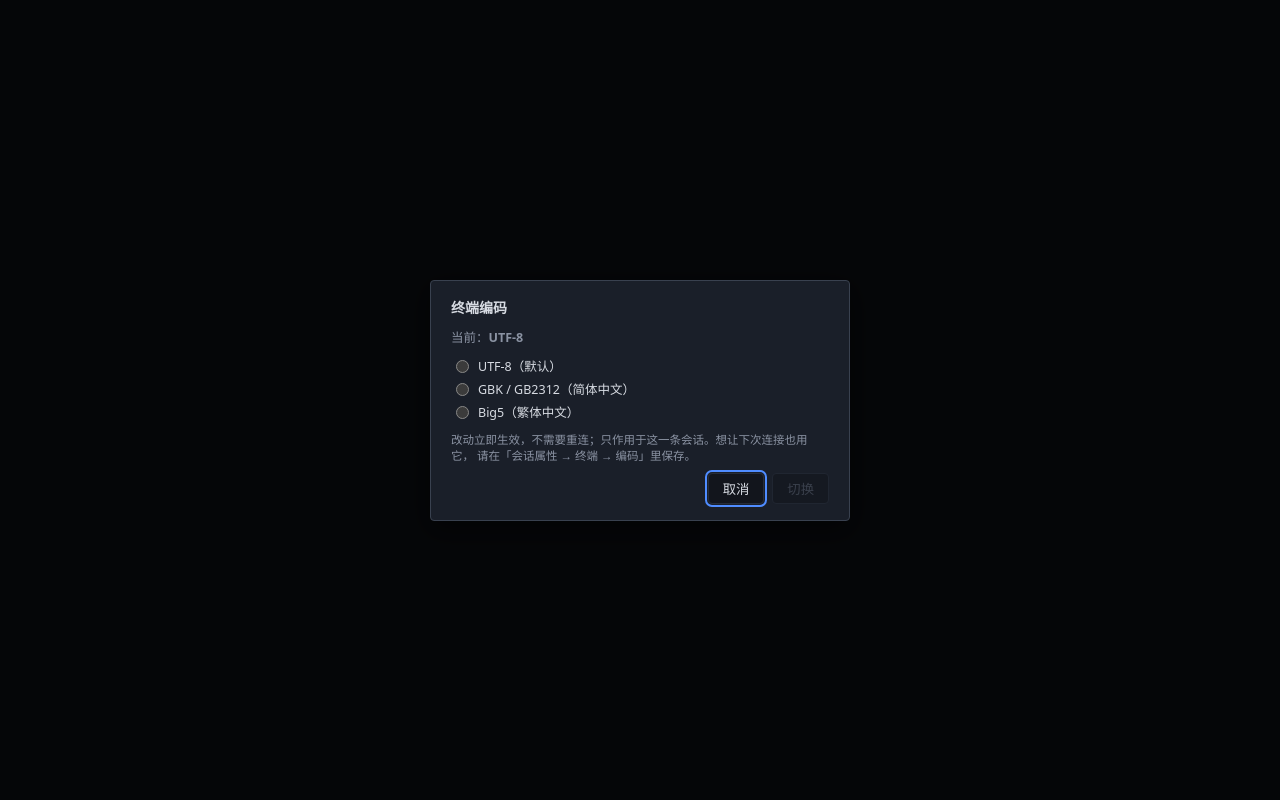
Scenario: EncodingDialog › 切换失败留在框里说清楚——关掉之后用户只会看到编码没变而不知道为什么
Step 1. Click the radio button with test id "encoding-opt-gbk" → point(462, 390), box [456, 383, 469, 396]
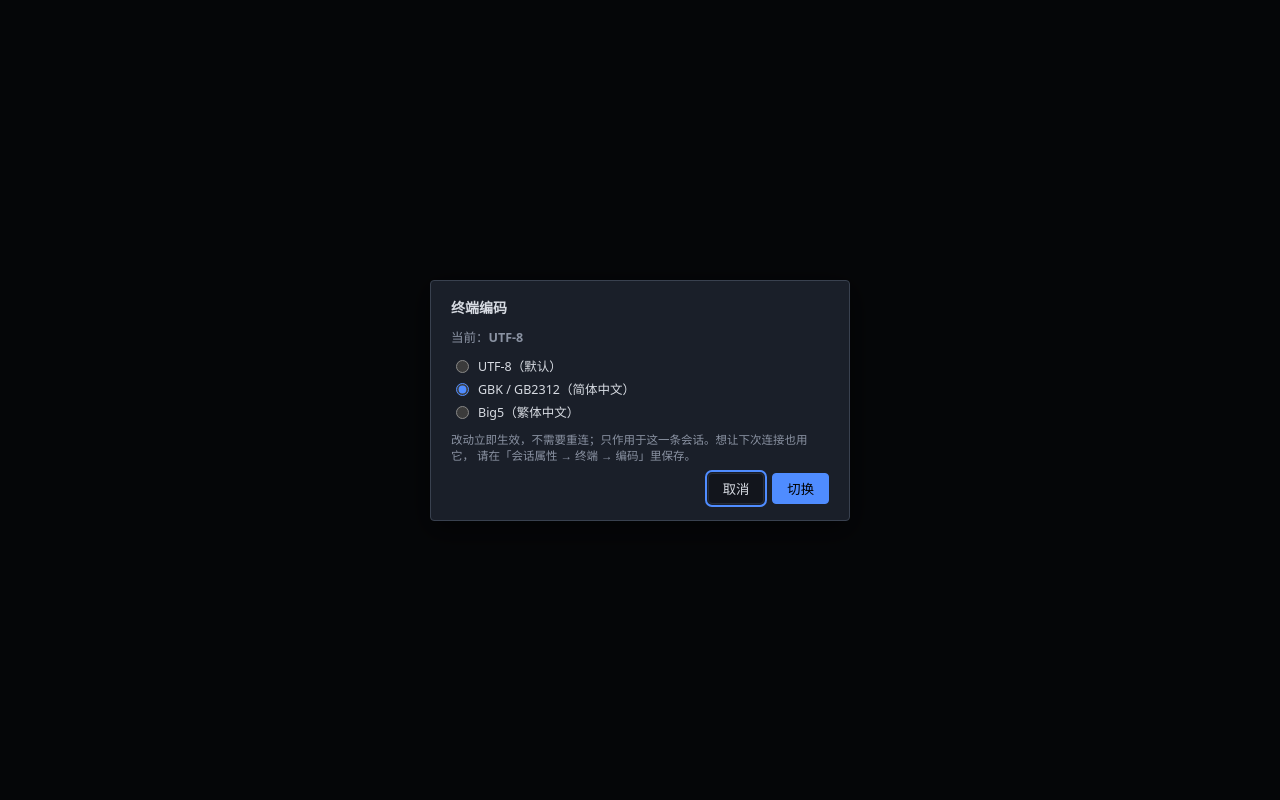
Step 2. Click the button "切换" → point(801, 488), box [772, 472, 829, 504]
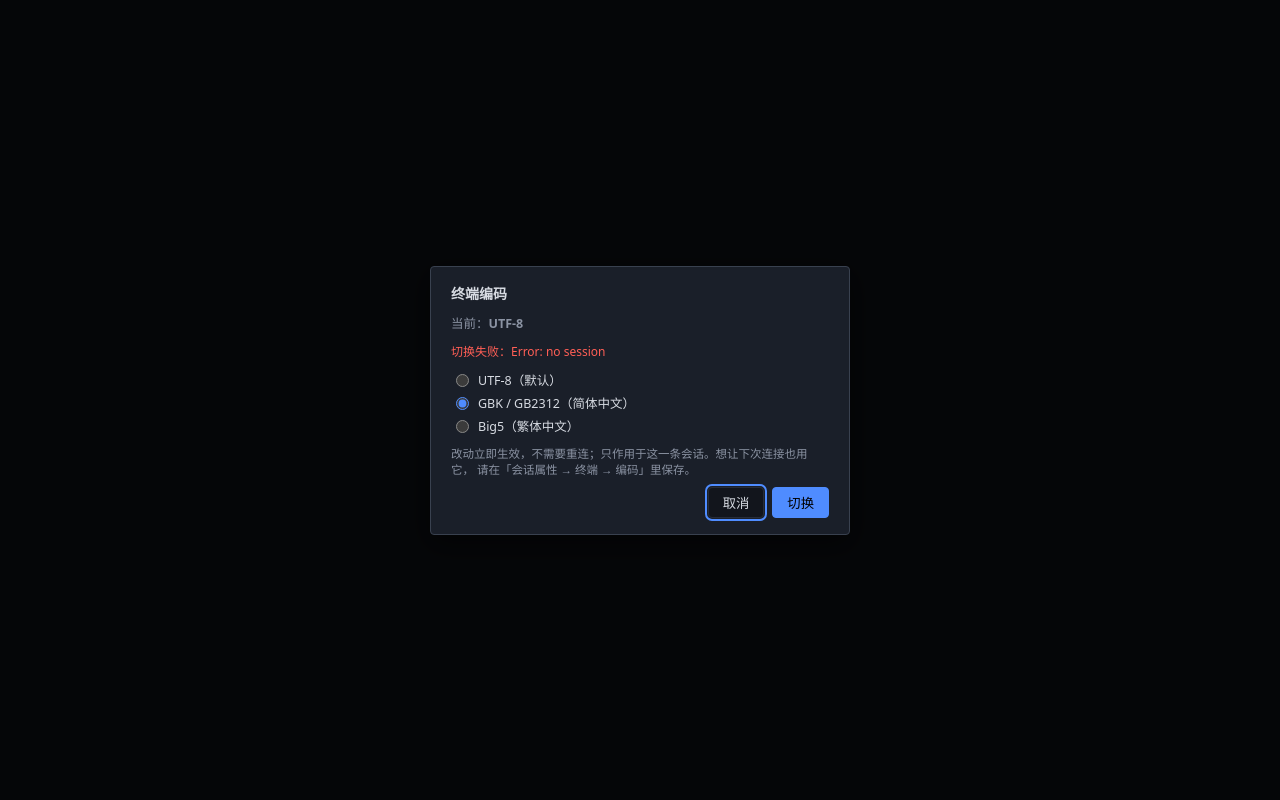
expect the dialog with test id "encoding-dialog" is shown: met, box [430, 266, 850, 534]
expect the message with test id "encoding-error" shows "no session": met, box [451, 342, 606, 360]
